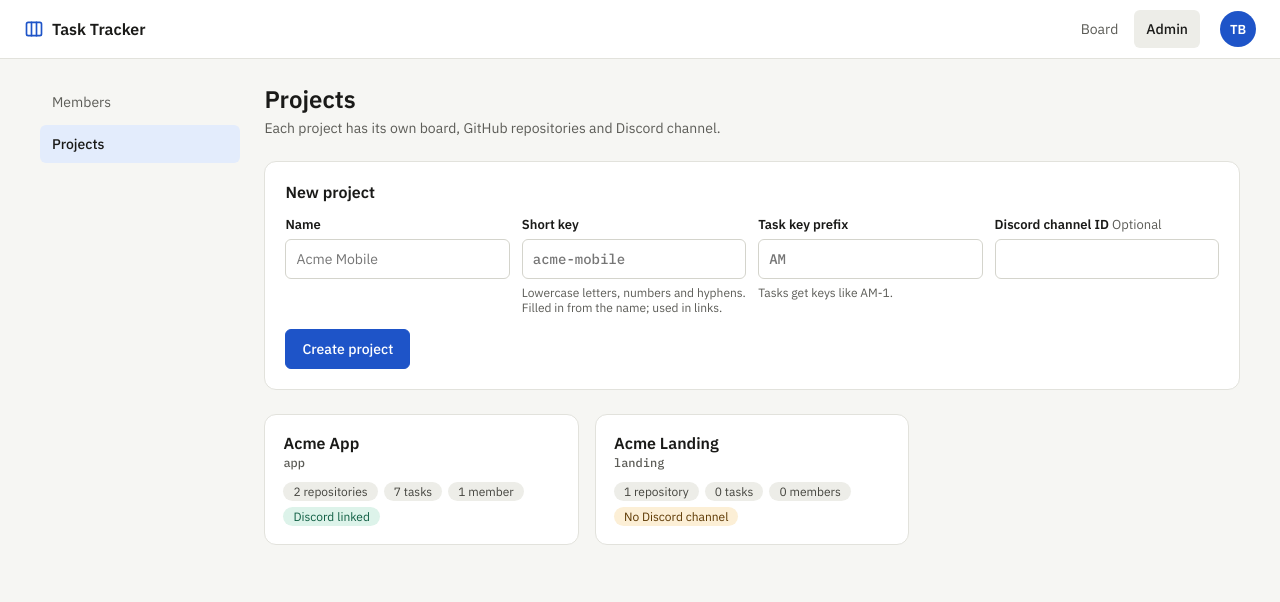
it: Projects › clears a stale server error when a field changes and shows only the latest one
In the field labelled "Name": (398, 259) [285,239,510,279], type "App"
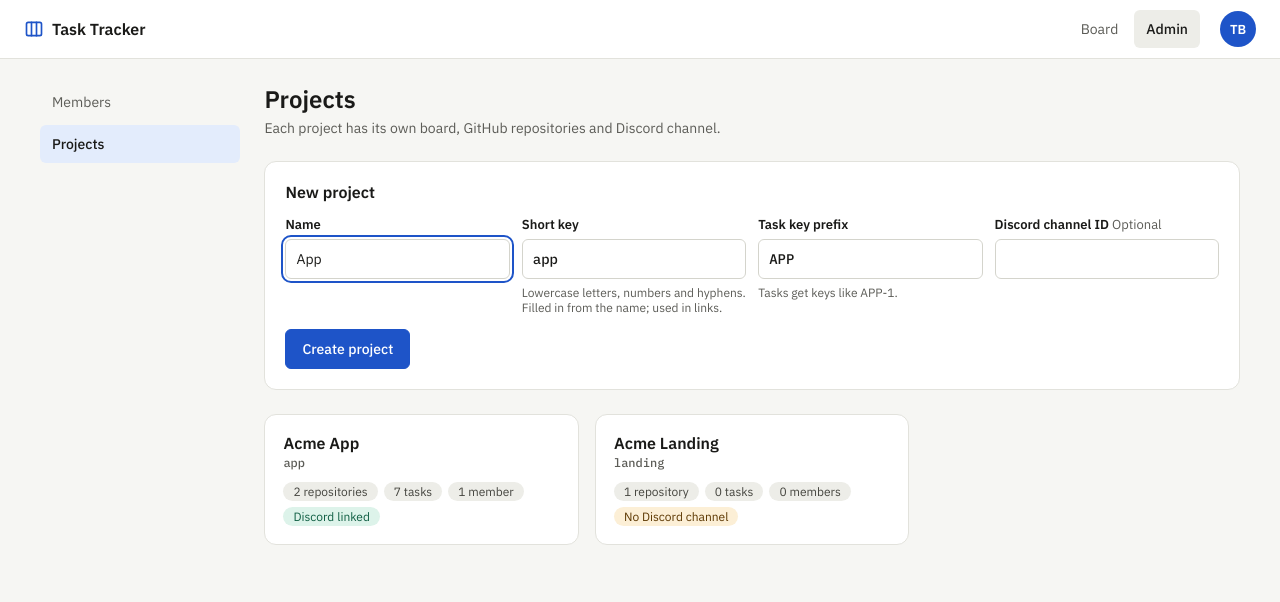
Click the button "Create project": (348, 349) [285,329,410,369]
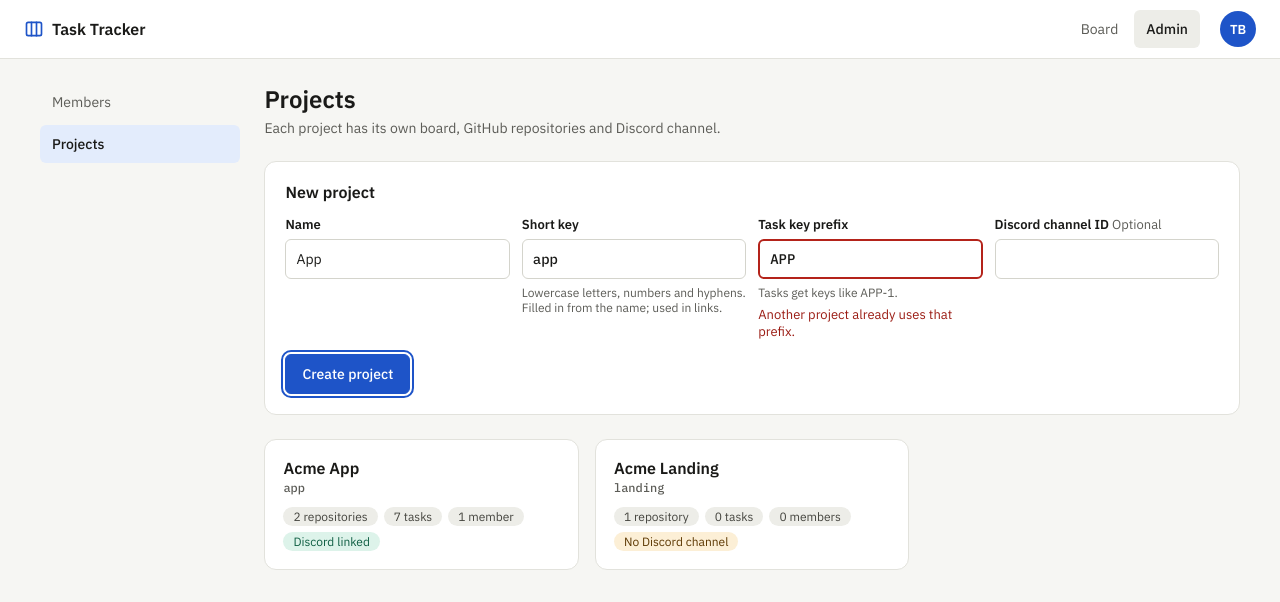
Check: the field labelled "Task key prefix" is marked as invalid
In the field labelled "Task key prefix": (870, 259) [758,239,983,279], type "X"
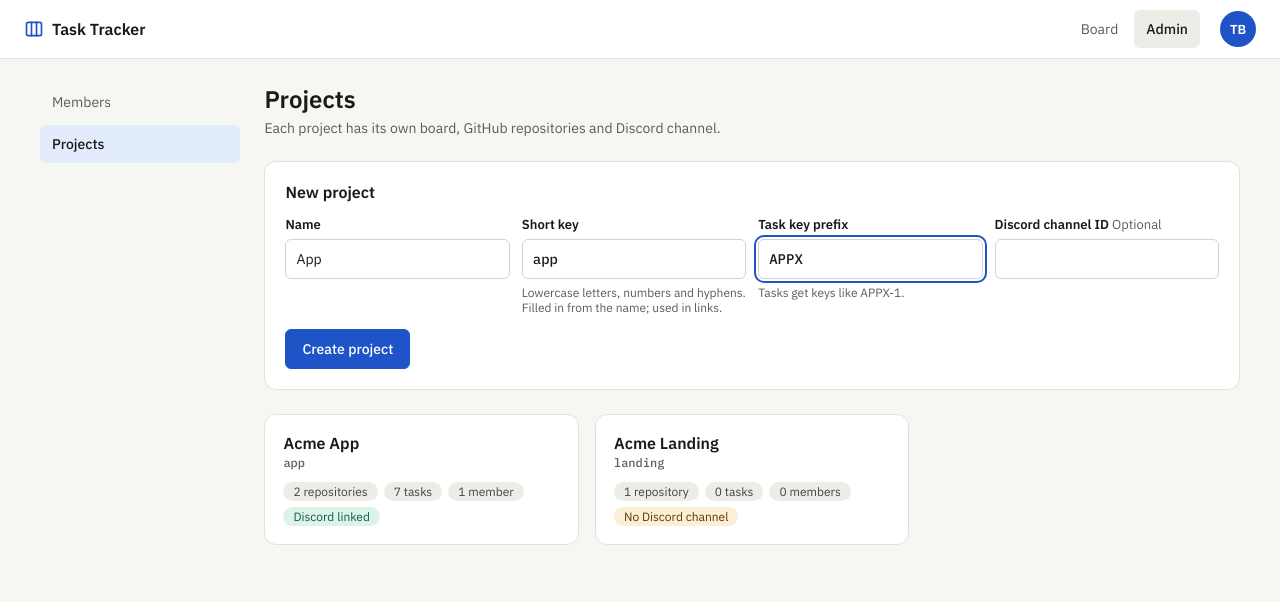
Check: the message "Another project already uses that prefix." is gone
Click the button "Create project": (348, 349) [285,329,410,369]
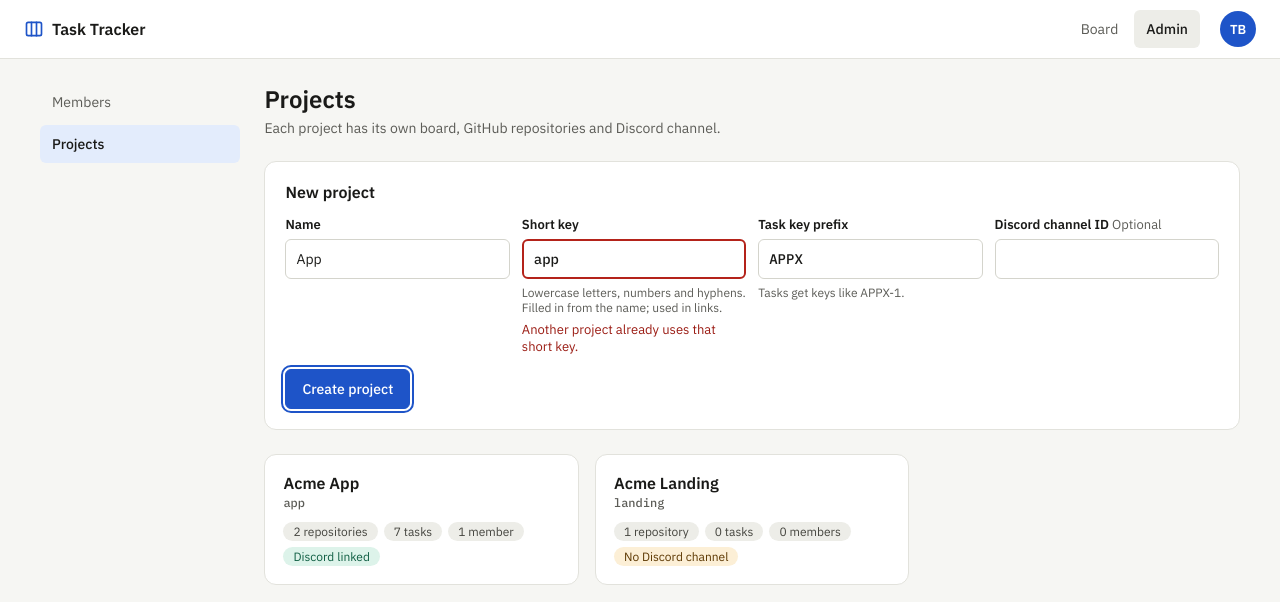
Check: the number of messages is 1, box [522,321,746,355]
